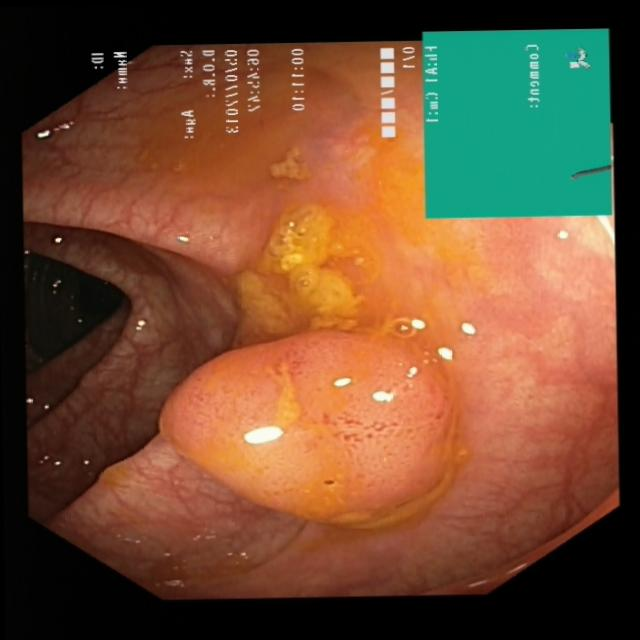Polyps: (153, 323, 461, 535), (226, 184, 382, 351)
